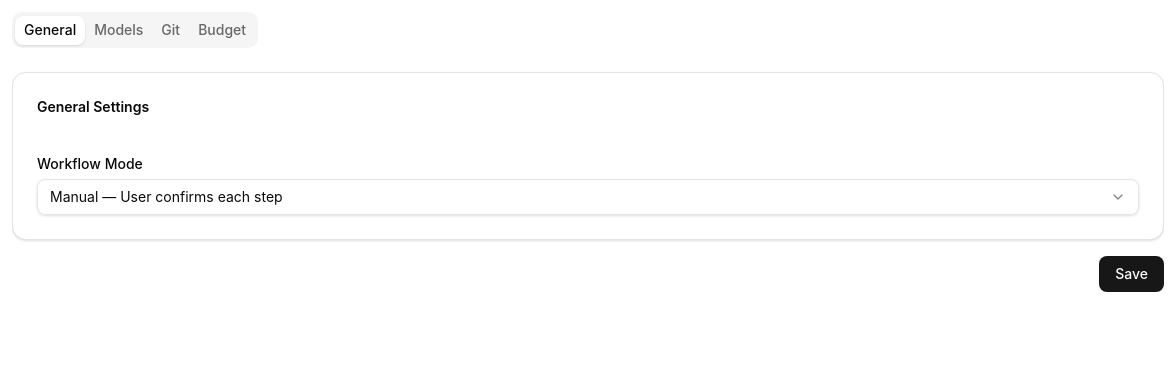
Test: ConfigPanel › Budget tab shows ceiling input
Expected: the element showing "General Models Git Budget" is shown, [12,12,258,48]
Click the tab "Budget".
click(222, 30)  # box [189,16,255,44]
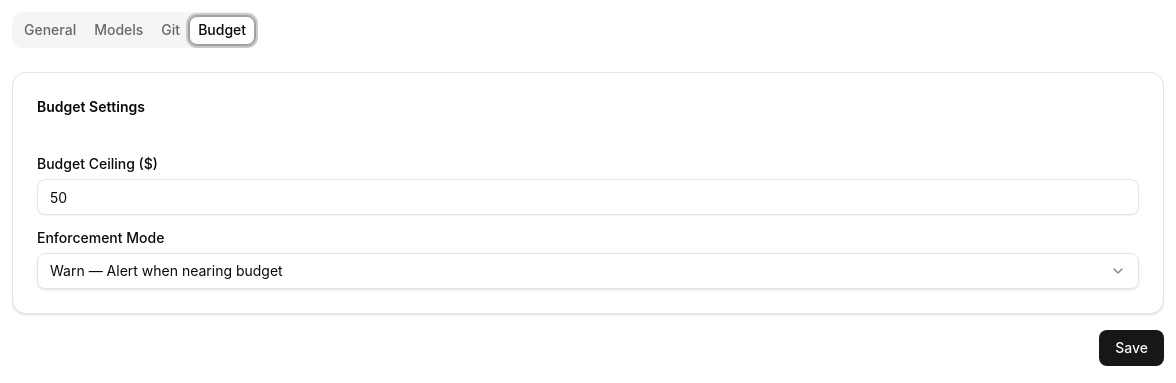
Now the number field labelled "Budget Ceiling ($)" is shown, box [37,179,1139,215]
